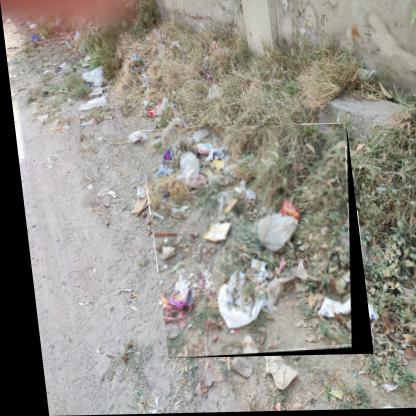Garbage: (139, 126, 367, 361)
